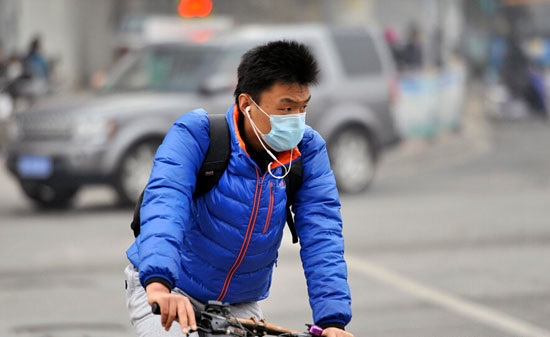face_mask: (255, 83, 309, 150)
